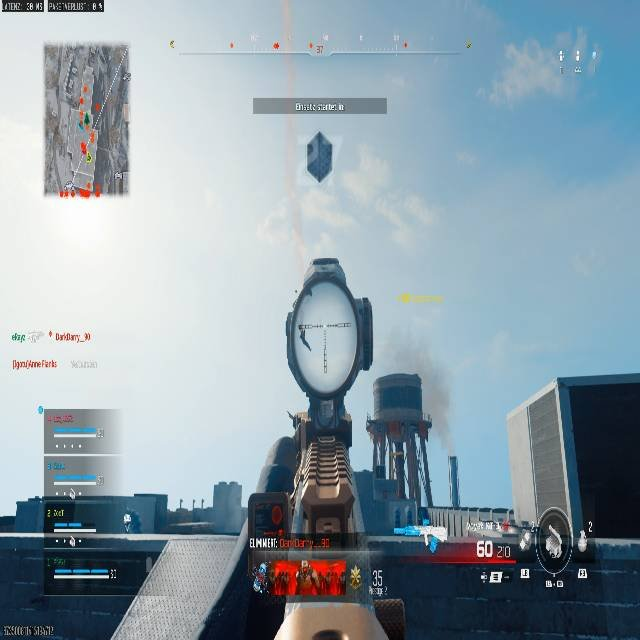player: (121, 510, 141, 533), (121, 512, 131, 532)
